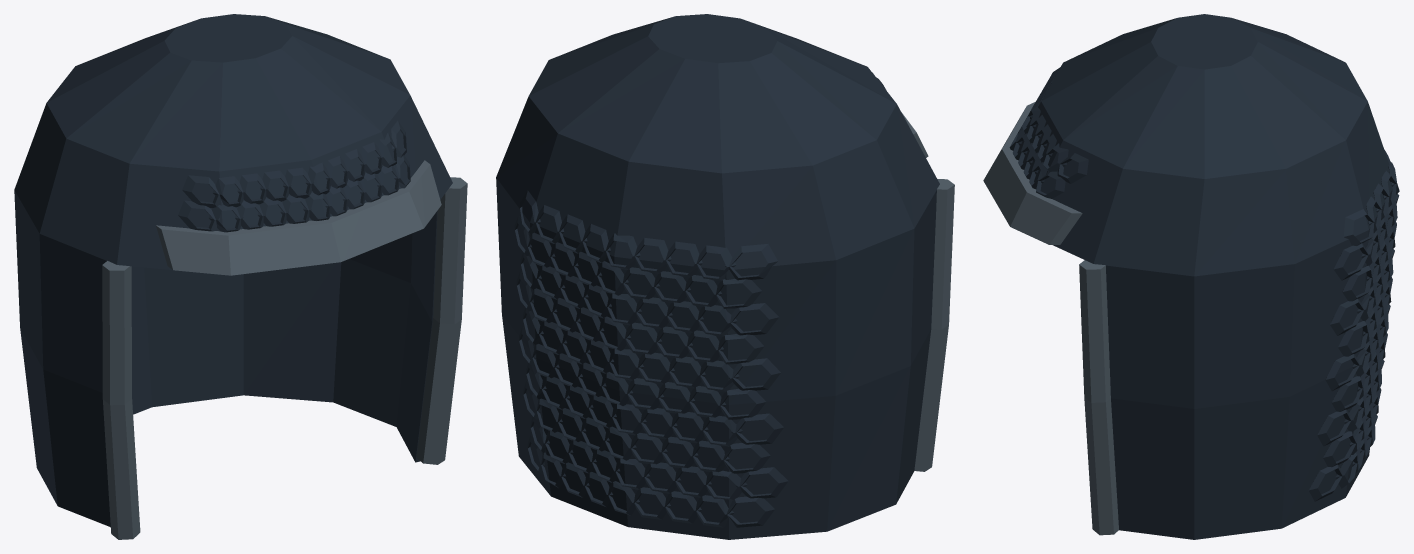
Rendered from ring_head-male.glb.
3 renders of one model, left to right at view 1: azimuth 30°, elevation 25°; view 2: azimuth 150°, elevation 25°; view 3: azimuth 270°, elevation 25°, orthographic. The views are drawn at different scales.
Parts seen in each view (by area): view 1: ring joined crown and nape guard, Fitted brow binding, ring woven coverage on ring joined crown and nape guard, Bound face opening -1, Bound face opening 1; view 2: ring joined crown and nape guard, ring coif nape coverage, Bound face opening -1; view 3: ring joined crown and nape guard, ring coif nape coverage, Bound face opening 1, Fitted brow binding, ring woven coverage on ring joined crown and nape guard.
Part boxes in pixels (left/top/right/bottom): ring joined crown and nape guard: left=14, top=14, right=452, bottom=526; Fitted brow binding: left=156, top=160, right=441, bottom=275; ring woven coverage on ring joined crown and nape guard: left=178, top=121, right=410, bottom=232; Bound face opening -1: left=102, top=261, right=140, bottom=539; Bound face opening 1: left=416, top=177, right=467, bottom=464; ring joined crown and nape guard: left=496, top=14, right=939, bottom=539; ring coif nape coverage: left=514, top=190, right=788, bottom=527; Bound face opening -1: left=914, top=179, right=954, bottom=471; ring joined crown and nape guard: left=1017, top=14, right=1392, bottom=539; ring coif nape coverage: left=1308, top=150, right=1399, bottom=501; Bound face opening 1: left=1079, top=260, right=1118, bottom=535; Fitted brow binding: left=983, top=102, right=1082, bottom=244; ring woven coverage on ring joined crown and nape guard: left=1009, top=67, right=1088, bottom=198.
Size of the model in its own units: 1.07 by 1.12 by 1.01.
